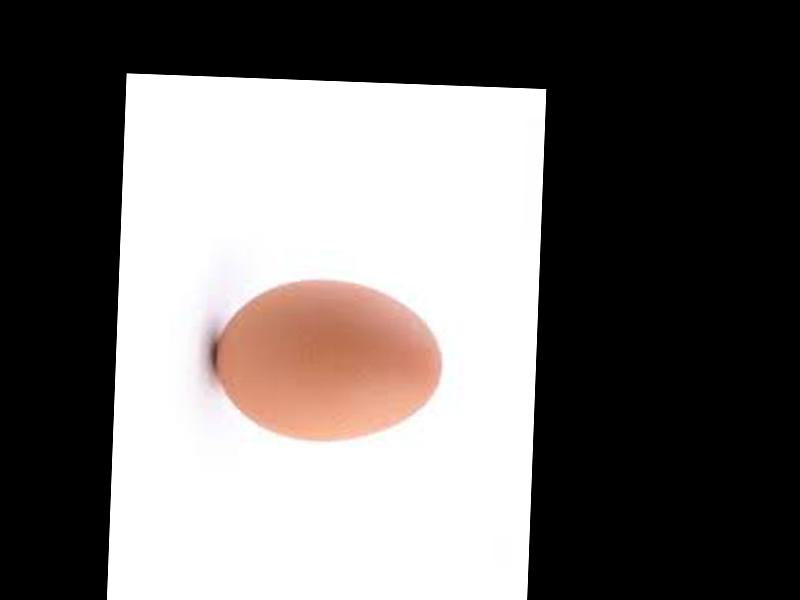Eggs: (213, 274, 444, 445)
